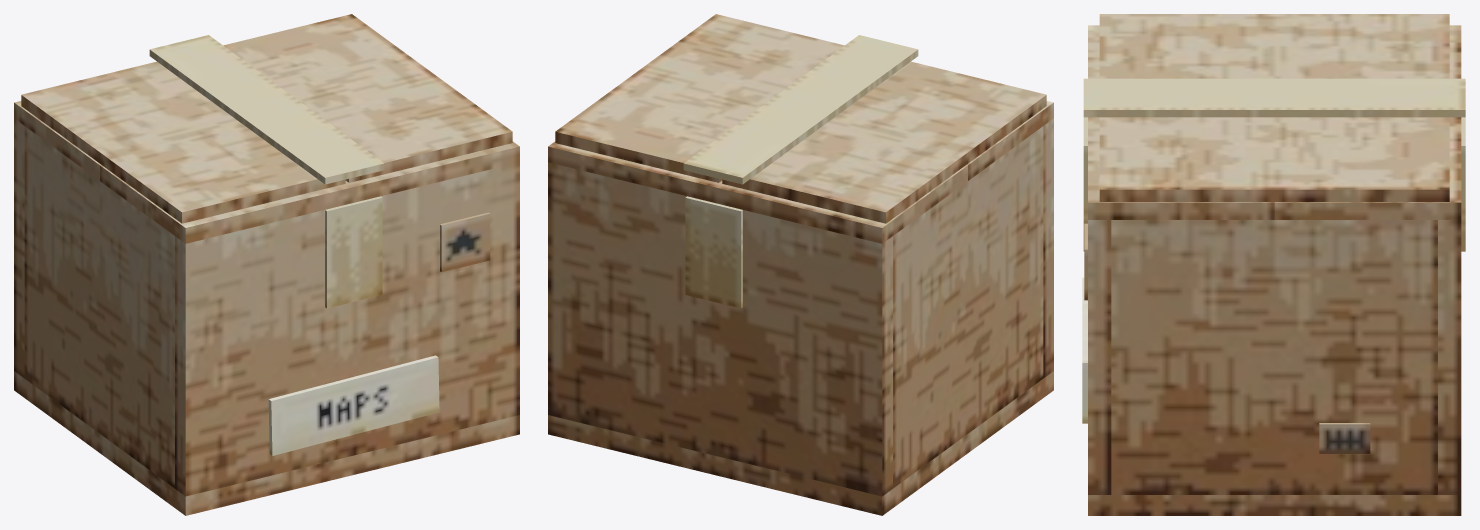
Rendered from box_f3_maps.glb.
The picture shows the model from 3 angles, left to right: view 1: azimuth 30°, elevation 25°; view 2: azimuth 150°, elevation 25°; view 3: azimuth 270°, elevation 25°; orthographic projection. The views are drawn at different scales.
Visible parts, largest first — view 1: solid (×6); view 2: solid (×6); view 3: solid (×6).
Boxes of the visible parts, x1,y1,x2,y2 form: solid (×6): (14,14,519,515); solid (×6): (548,14,1053,515); solid (×6): (1082,14,1465,515).
Bounding box in the file's own units: 18.16 × 15.74 × 16.44.
Materials: 1 (1 with a texture image).
